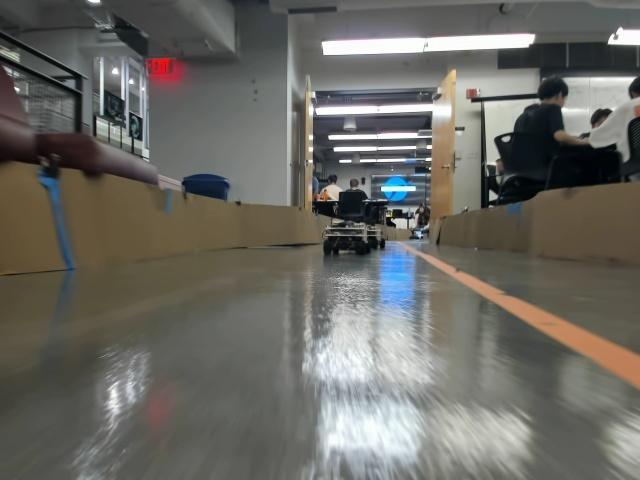Car: (322, 215, 368, 256)
